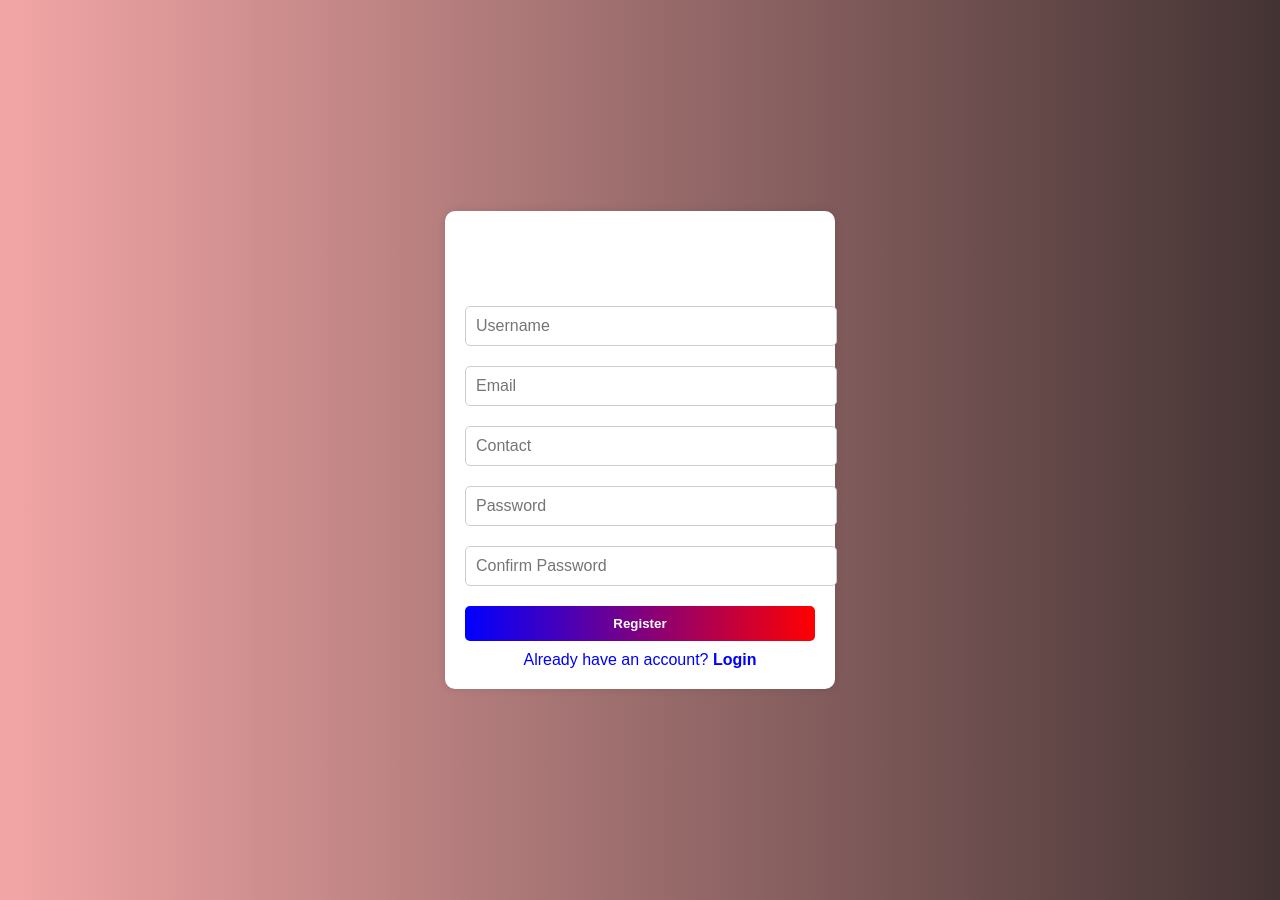
Test case: Signup Component › shows error when passwords do not match
Type "password123" into the password field with placeholder "Password" at [651, 506], box [465,486,837,526]
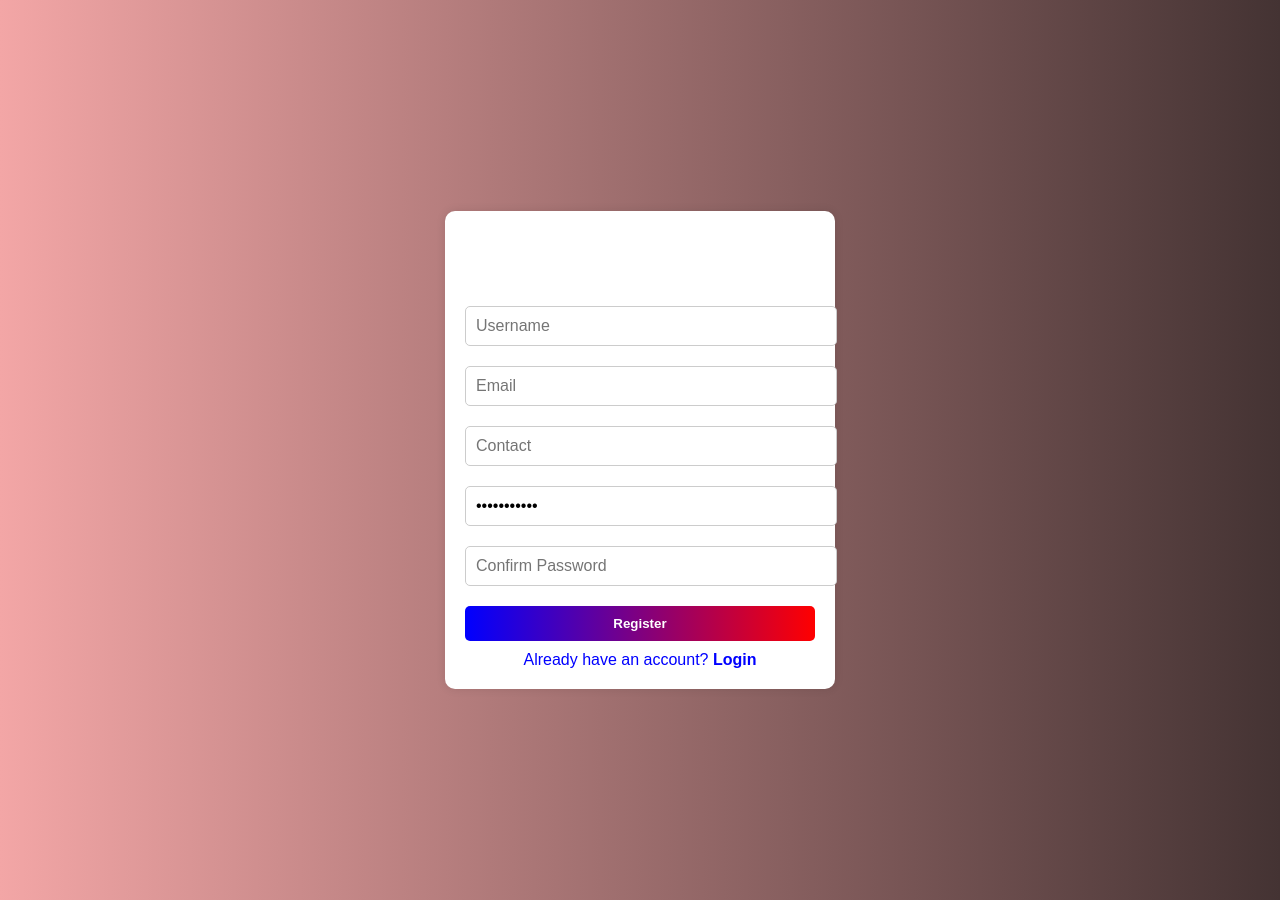
Type "password456" into the password field with placeholder "Confirm Password" at [651, 566], box [465,546,837,586]
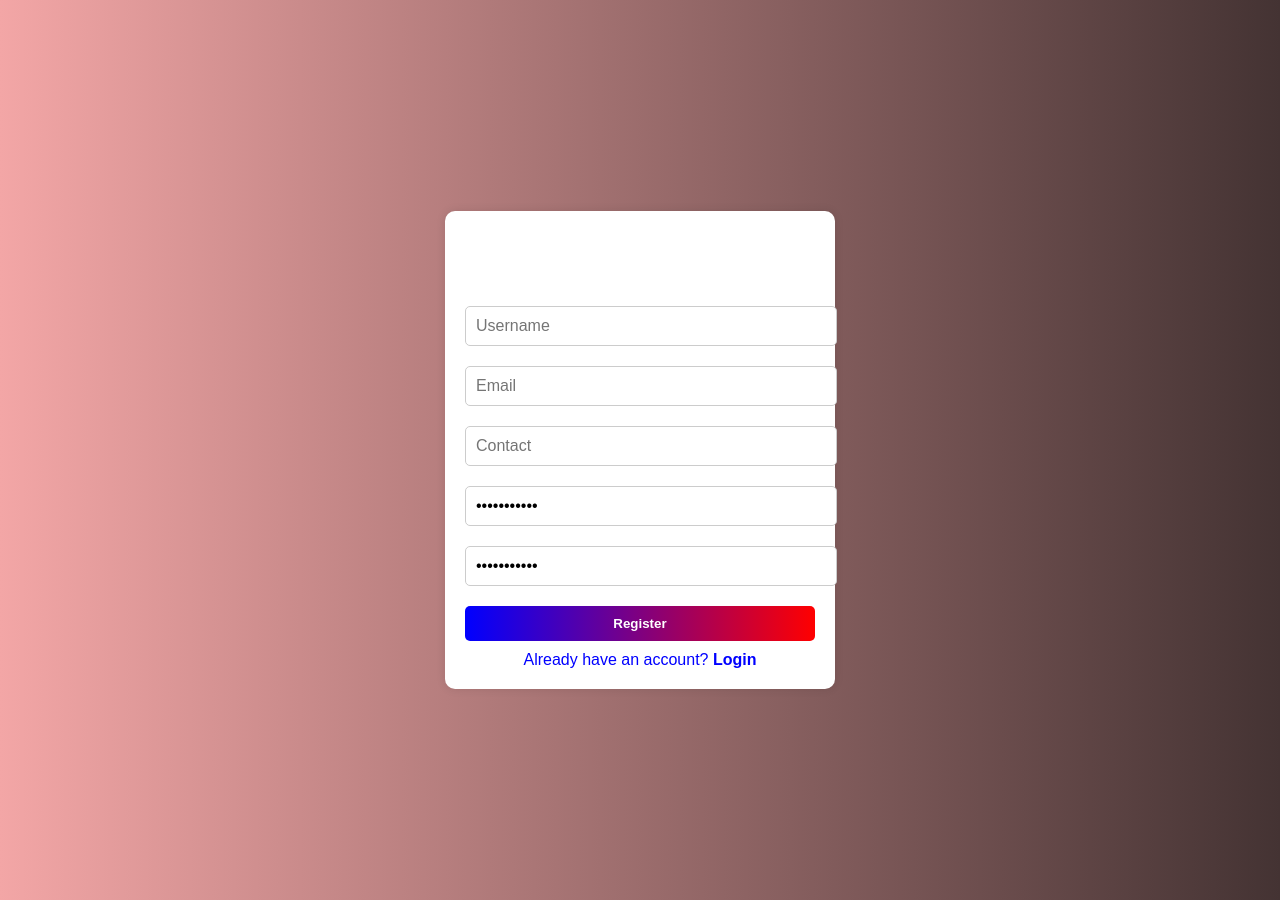
Click the button "Register" at [640, 623], box [465,606,815,640]
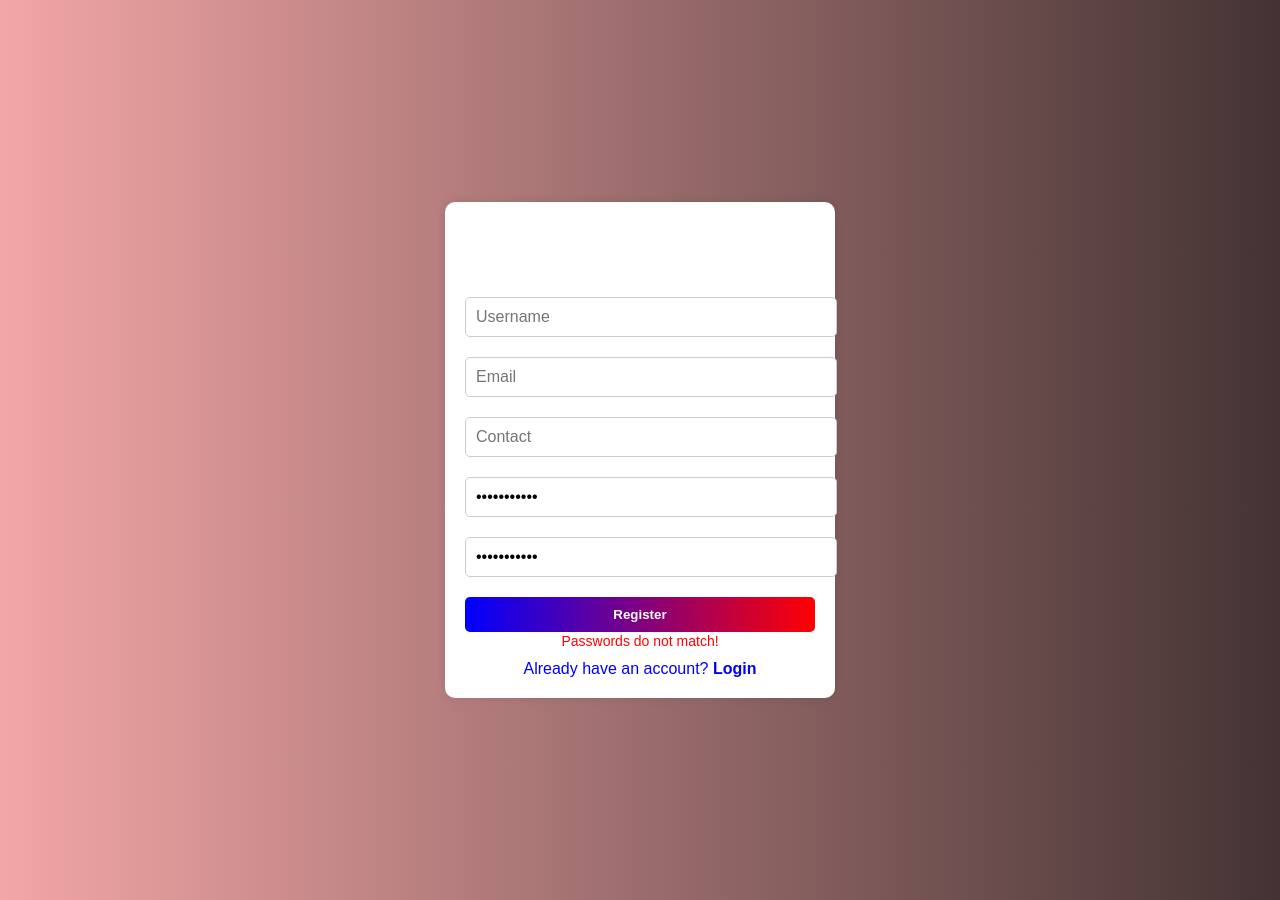
Expected: the text "Passwords do not match!" is shown, [561,632,719,648]
